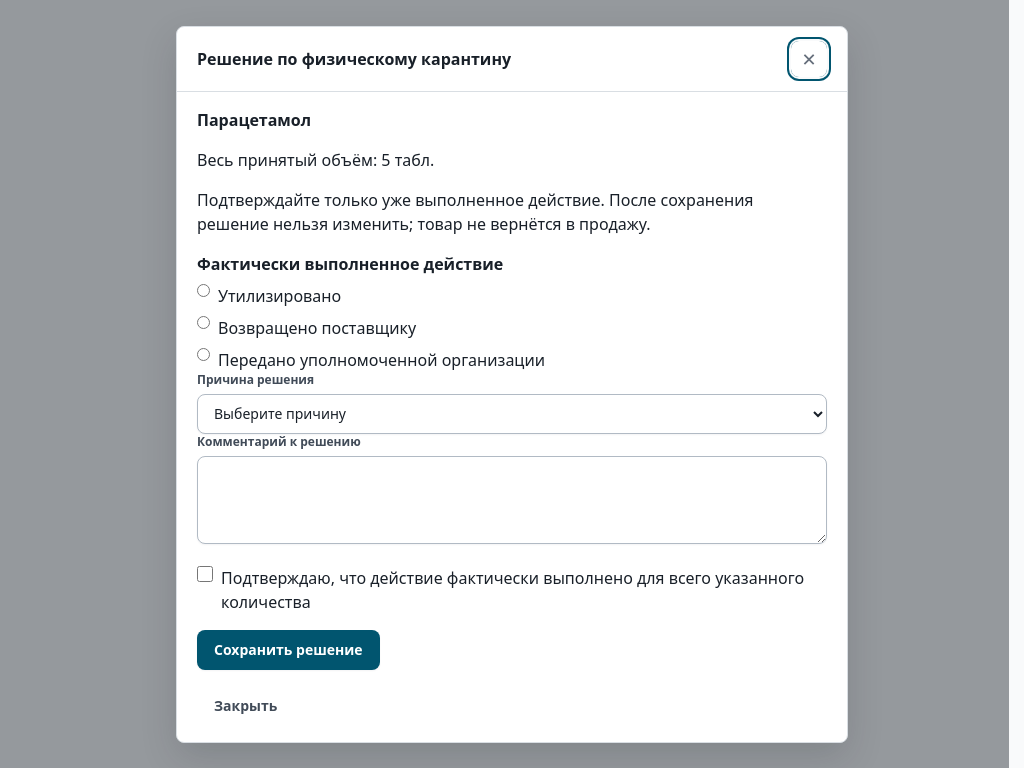
physical disposition confirmation form › requires an action and reason before saving
The width and height of the screenshot is (1024, 768).
Click the checkbox labelled "Подтверждаю, что действие": (205, 574) x1=197 y1=566 x2=213 y2=582
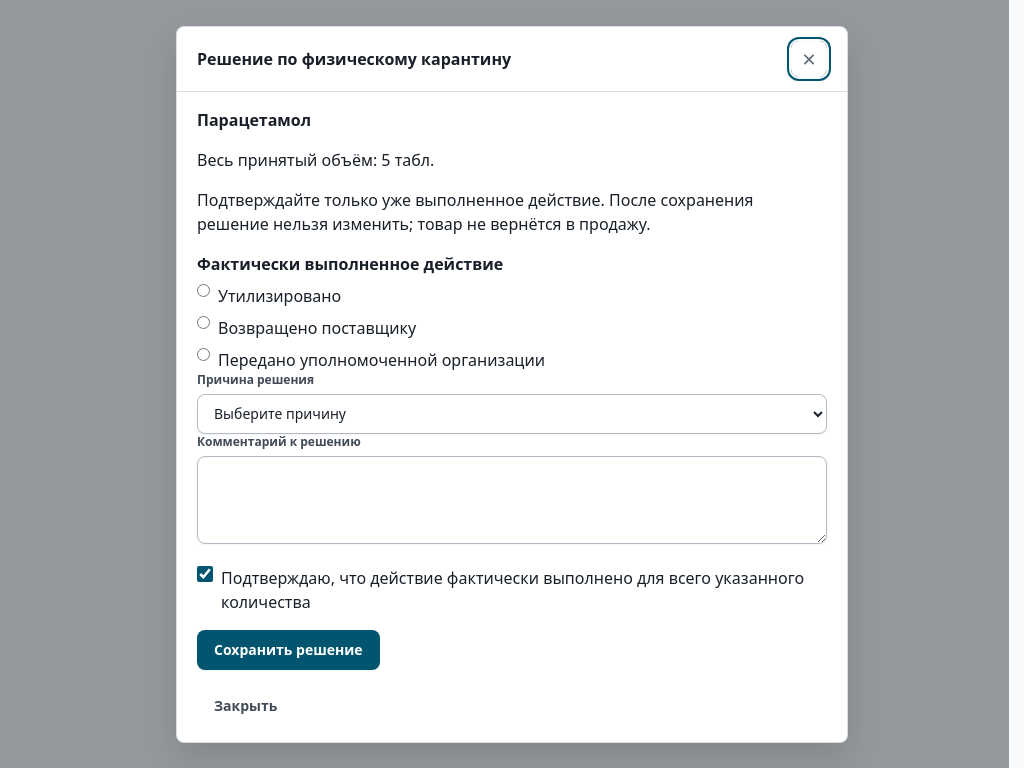
Click the button "Сохранить решение": (288, 650) x1=197 y1=630 x2=380 y2=670
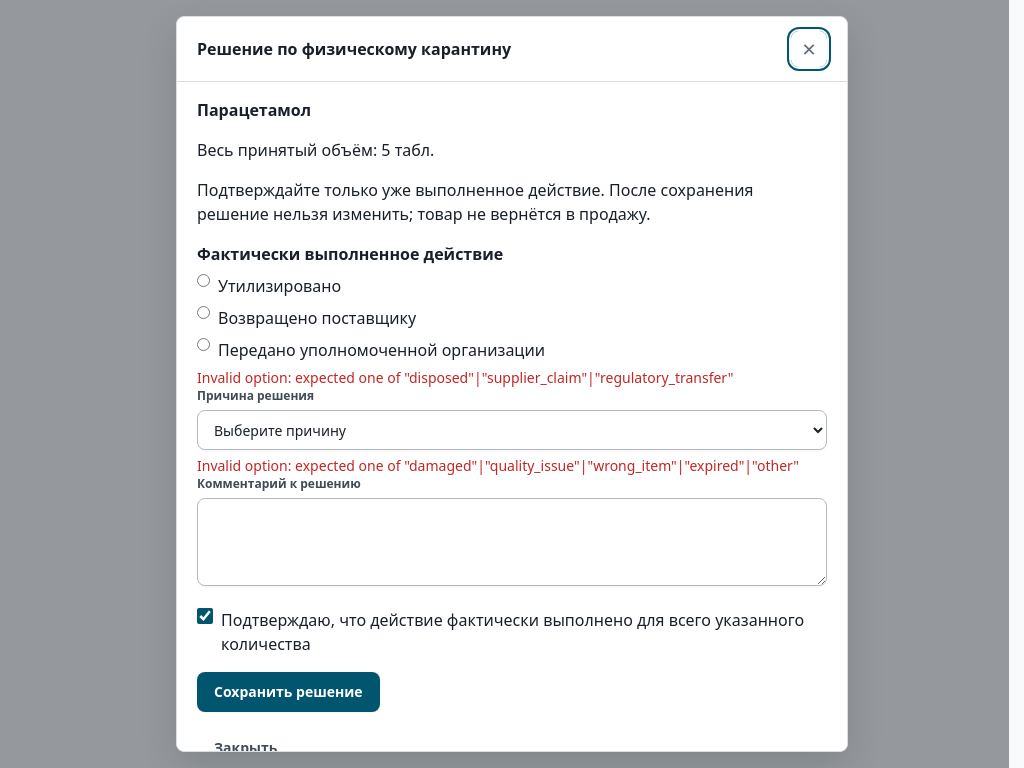
Now the number of messages is 2, box x1=197 y1=368 x2=827 y2=388; x1=197 y1=456 x2=827 y2=476
